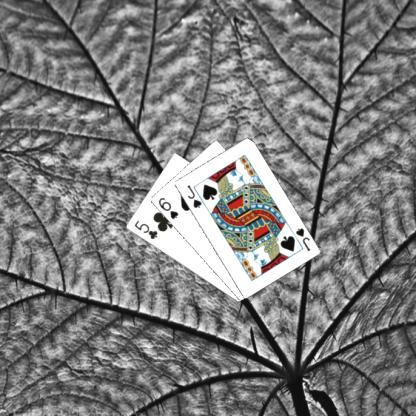5C: (131, 218, 159, 240)
6S: (155, 195, 180, 220)
JS: (293, 225, 312, 252), (184, 182, 202, 209)
